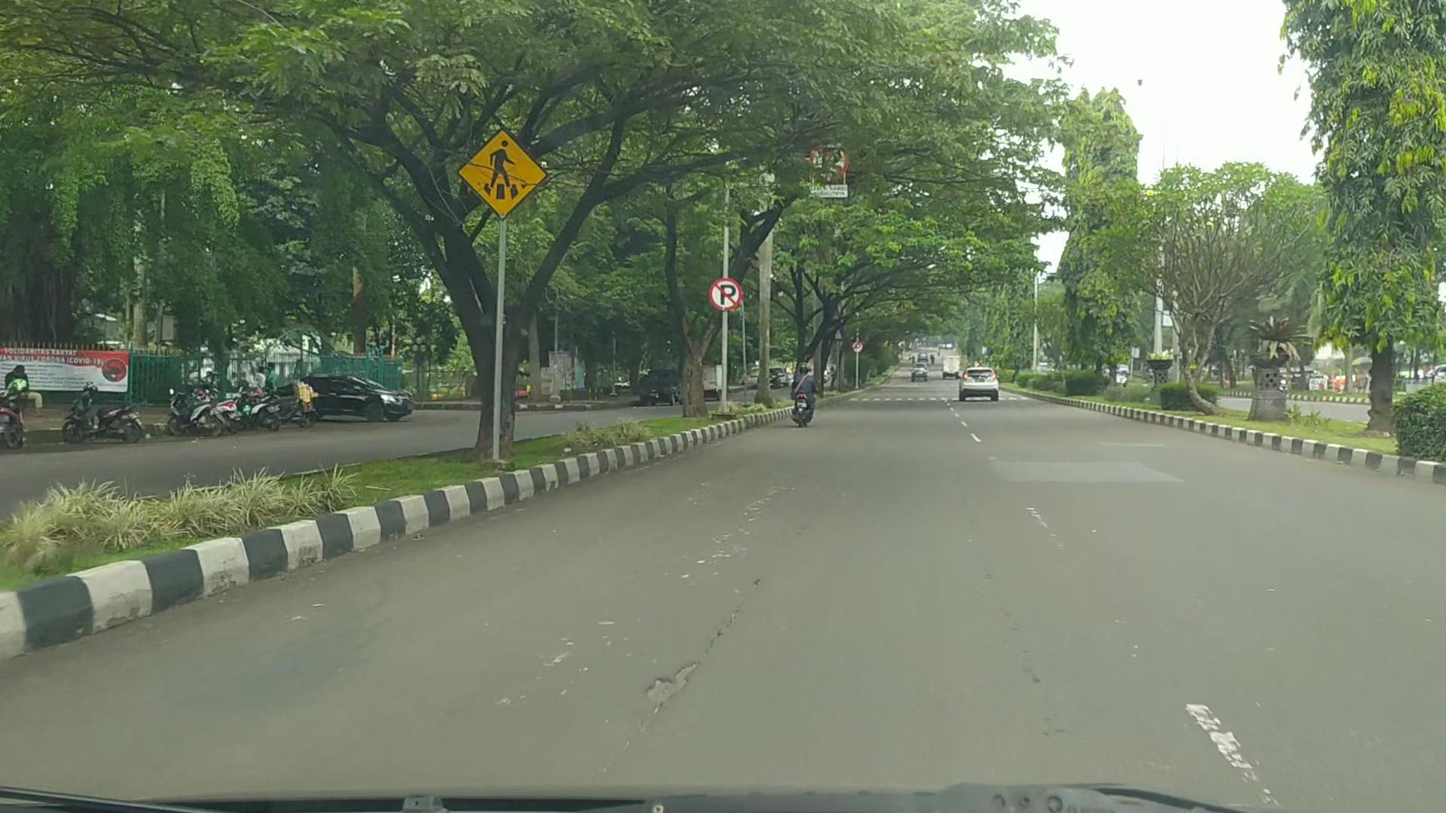pothole: (643, 661, 700, 704)
